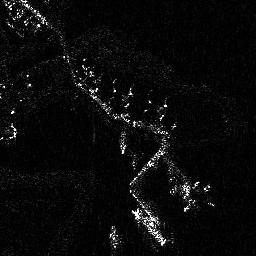ship: (132, 207, 166, 245)
